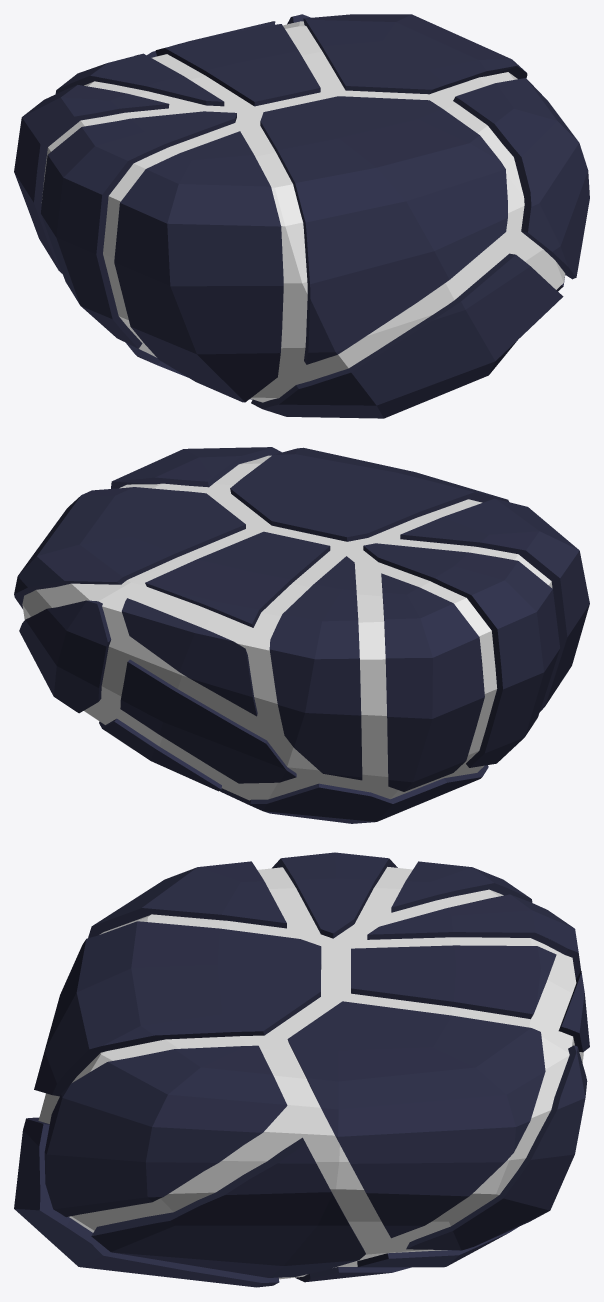
Rendered from SpacePlatform1 (1).fbx.
The picture shows the model from 3 angles, top to bottom: view 1: azimuth 30°, elevation 25°; view 2: azimuth 150°, elevation 25°; view 3: azimuth 270°, elevation 25°; orthographic projection. The views are drawn at different scales.
Parts seen in each view (by area): view 1: Cube_cell.007, Cube; view 2: Cube_cell.007, Cube; view 3: Cube_cell.007, Cube.
Boxes of the visible parts, left/top/right/bottom form: Cube_cell.007: left=14, top=14, right=589, bottom=418; Cube: left=41, top=21, right=565, bottom=402; Cube_cell.007: left=14, top=447, right=589, bottom=823; Cube: left=22, top=455, right=552, bottom=800; Cube_cell.007: left=14, top=852, right=589, bottom=1287; Cube: left=38, top=867, right=583, bottom=1279.
Bounding box in the file's own units: 1918 × 999 × 1738.
